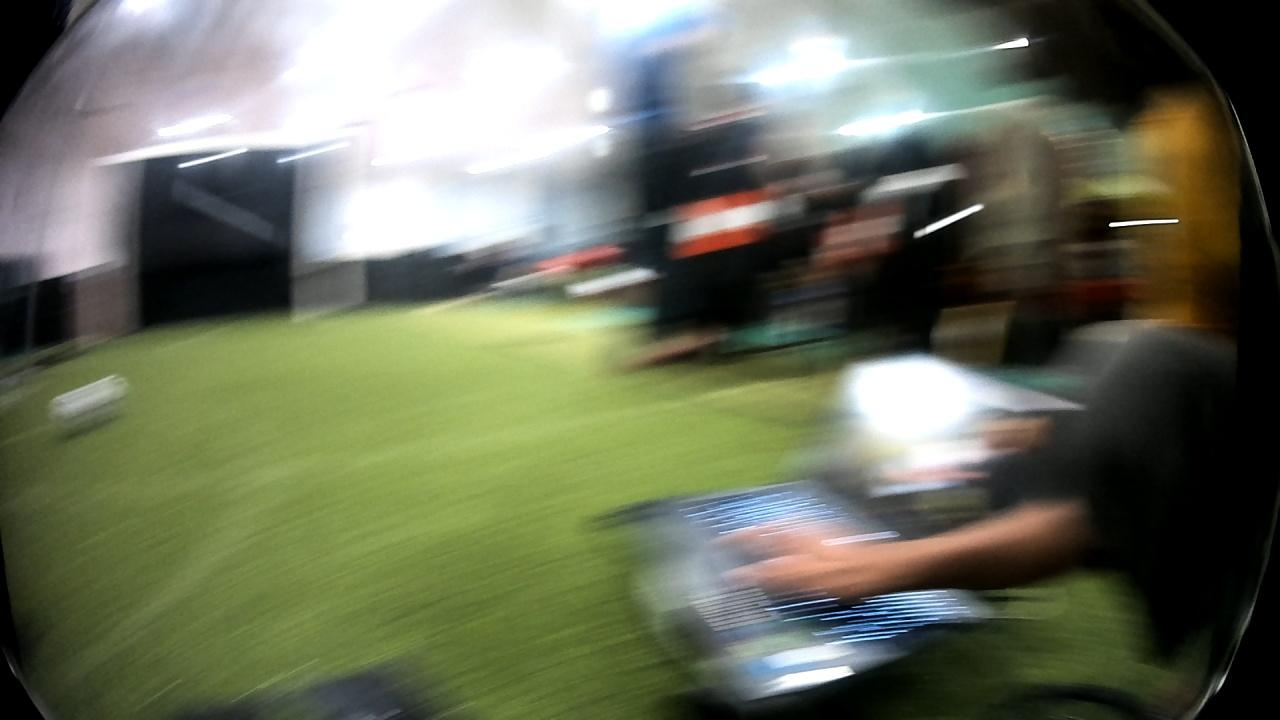ball: (47, 369, 134, 442)
